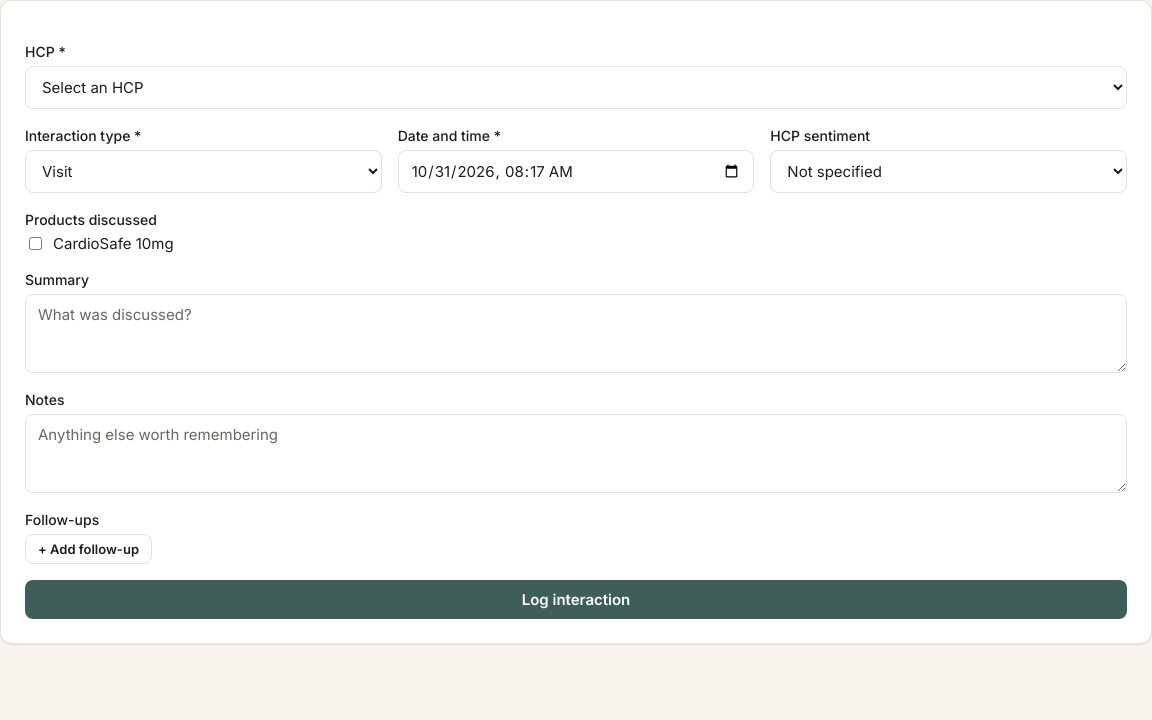
Test: LogInteractionForm › asks for an HCP before submitting
Click the button "Log interaction": x=576, y=600 x1=25 y1=580 x2=1127 y2=619
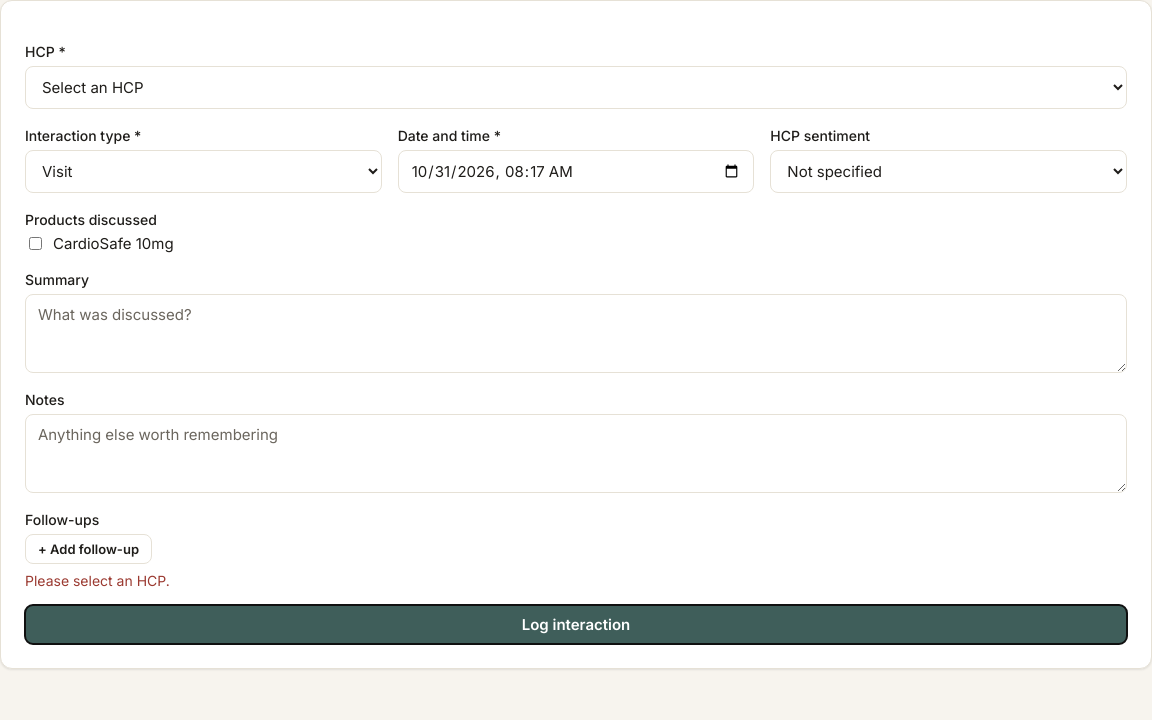
Expected: the text "Please select an HCP." is shown, x1=25 y1=572 x2=170 y2=589
